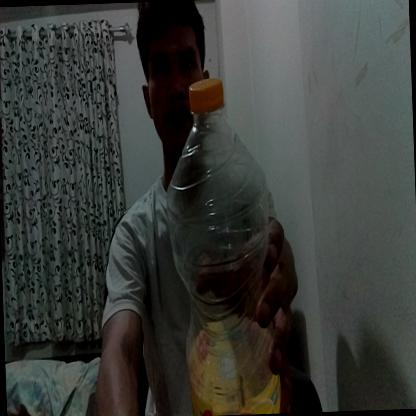plastic_bottles: (162, 74, 279, 416)
